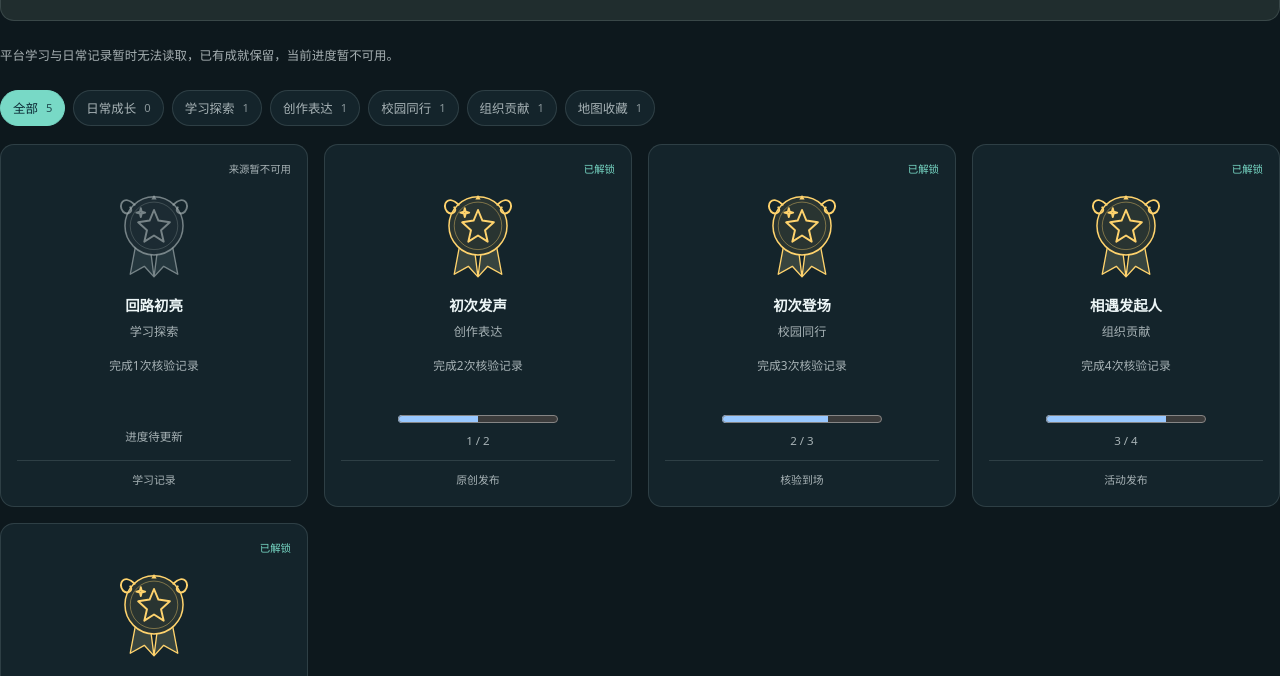
Test: AchievementAtlasPanel › keeps slots unchanged on a failed save and fills an existing empty slot
This screenshot has width=1280, height=676.
(page scrolled)
Click the button with aria-label "初次发声 查看详情" at (478, 326), box [324,144,632,507]
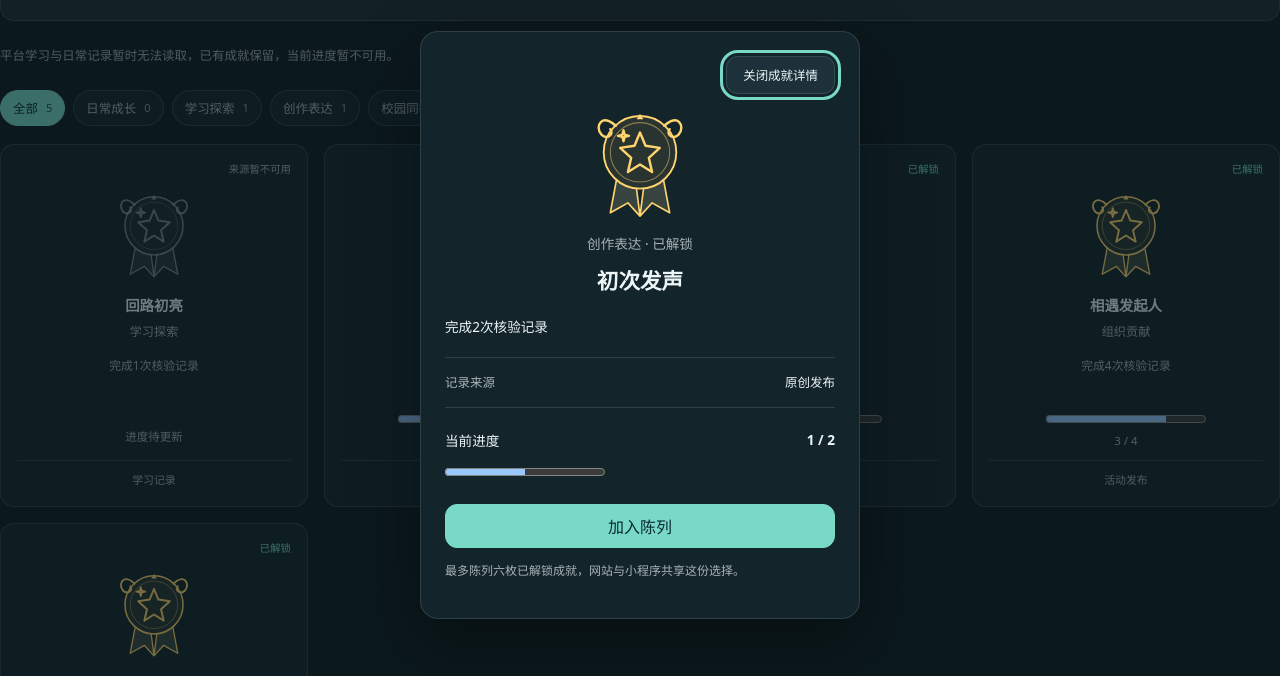
Click the button "加入陈列" at (640, 526), box [445,504,835,548]
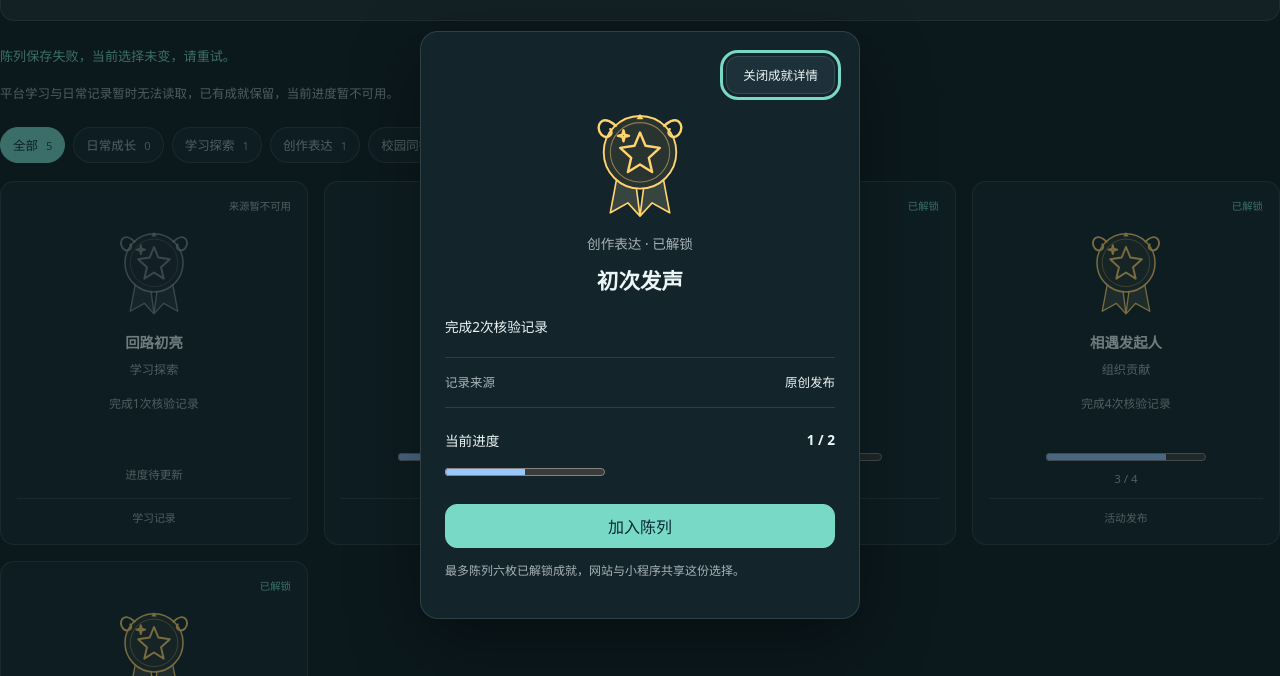
Check: the text "陈列保存失败，当前选择未变，请重试。" is shown, box [0,47,236,65]
